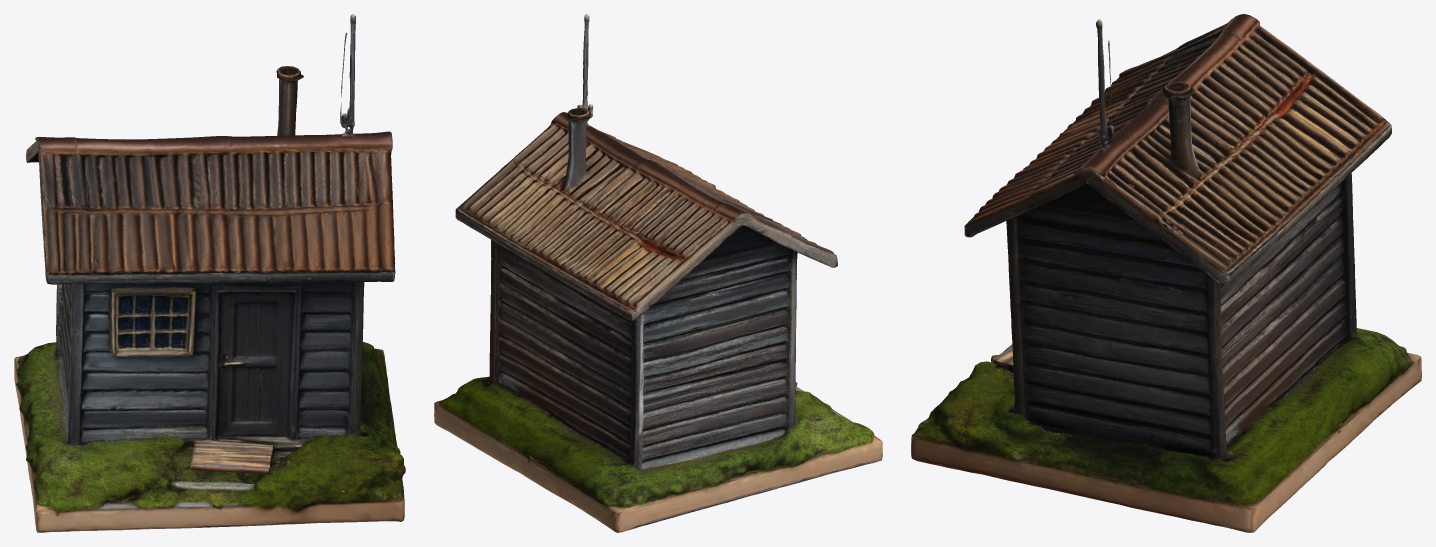
The model's file is cabin.glb.
The picture shows the model from 3 angles, left to right: view 1: azimuth 30°, elevation 25°; view 2: azimuth 150°, elevation 25°; view 3: azimuth 270°, elevation 25°; orthographic projection. The views are drawn at different scales.
Bounding box in the file's own units: 0.8412 × 0.8203 × 0.8208.
1 material, 1 textured.
